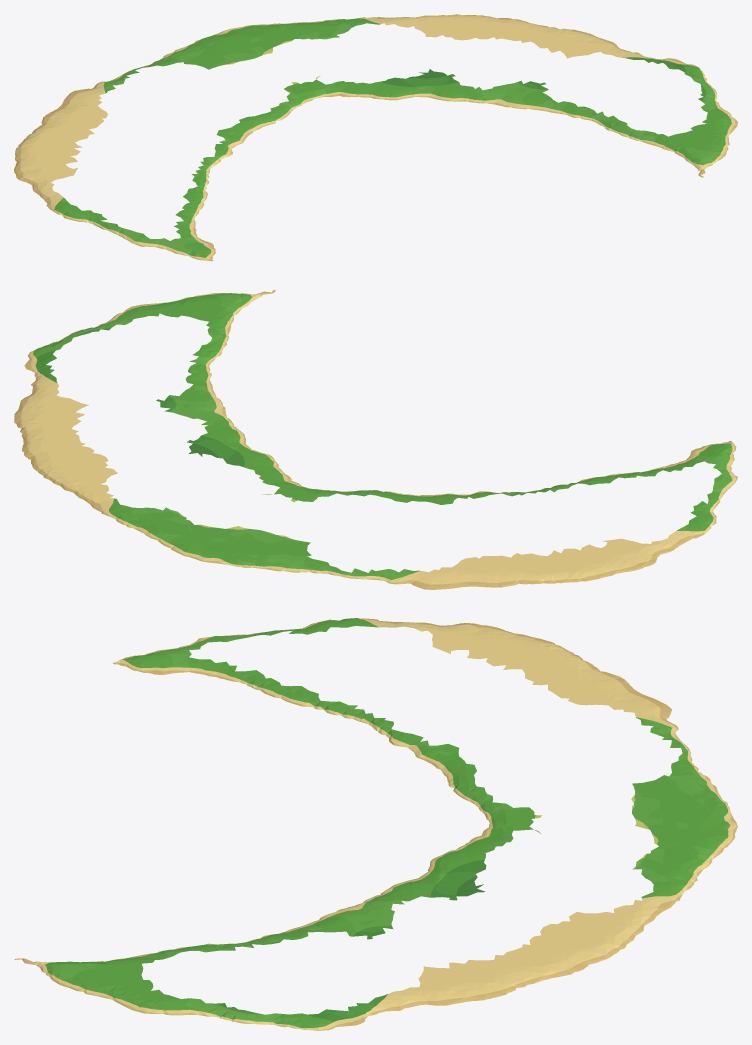
The model's file is Isl-crescent2-Ground.fbx.
3 renders of one model, top to bottom at view 1: azimuth 30°, elevation 25°; view 2: azimuth 150°, elevation 25°; view 3: azimuth 270°, elevation 25°, orthographic. The views are drawn at different scales.
Visible parts, largest first — view 1: Isl-crescent2-Ground-c22, Isl-crescent2-Ground-c12, Isl-crescent2-Ground-c21, Isl-crescent2-Ground-c11, Isl-crescent2-Ground-c23, Isl-crescent2-Ground-c13; view 2: Isl-crescent2-Ground-c22, Isl-crescent2-Ground-c12, Isl-crescent2-Ground-c21, Isl-crescent2-Ground-c23, Isl-crescent2-Ground-c13, Isl-crescent2-Ground-c11; view 3: Isl-crescent2-Ground-c22, Isl-crescent2-Ground-c12, Isl-crescent2-Ground-c21, Isl-crescent2-Ground-c11, Isl-crescent2-Ground-c23, Isl-crescent2-Ground-c13.
Part boxes in pixels (x1,y1,x2,y2): Isl-crescent2-Ground-c22: (235, 14, 718, 129); Isl-crescent2-Ground-c12: (14, 42, 310, 244); Isl-crescent2-Ground-c21: (608, 102, 737, 177); Isl-crescent2-Ground-c11: (137, 230, 215, 261); Isl-crescent2-Ground-c23: (219, 20, 330, 42); Isl-crescent2-Ground-c13: (152, 33, 234, 63); Isl-crescent2-Ground-c22: (14, 323, 317, 546); Isl-crescent2-Ground-c12: (235, 464, 736, 589); Isl-crescent2-Ground-c21: (103, 290, 275, 353); Isl-crescent2-Ground-c23: (126, 525, 233, 563); Isl-crescent2-Ground-c13: (216, 547, 320, 573); Isl-crescent2-Ground-c11: (674, 441, 737, 479); Isl-crescent2-Ground-c22: (206, 813, 700, 1024); Isl-crescent2-Ground-c12: (205, 618, 697, 817); Isl-crescent2-Ground-c21: (14, 944, 209, 1016); Isl-crescent2-Ground-c11: (113, 637, 210, 675); Isl-crescent2-Ground-c23: (688, 815, 737, 882); Isl-crescent2-Ground-c13: (688, 765, 733, 818).
Size of the model in its own units: 105 by 0.4899 by 78.23.
